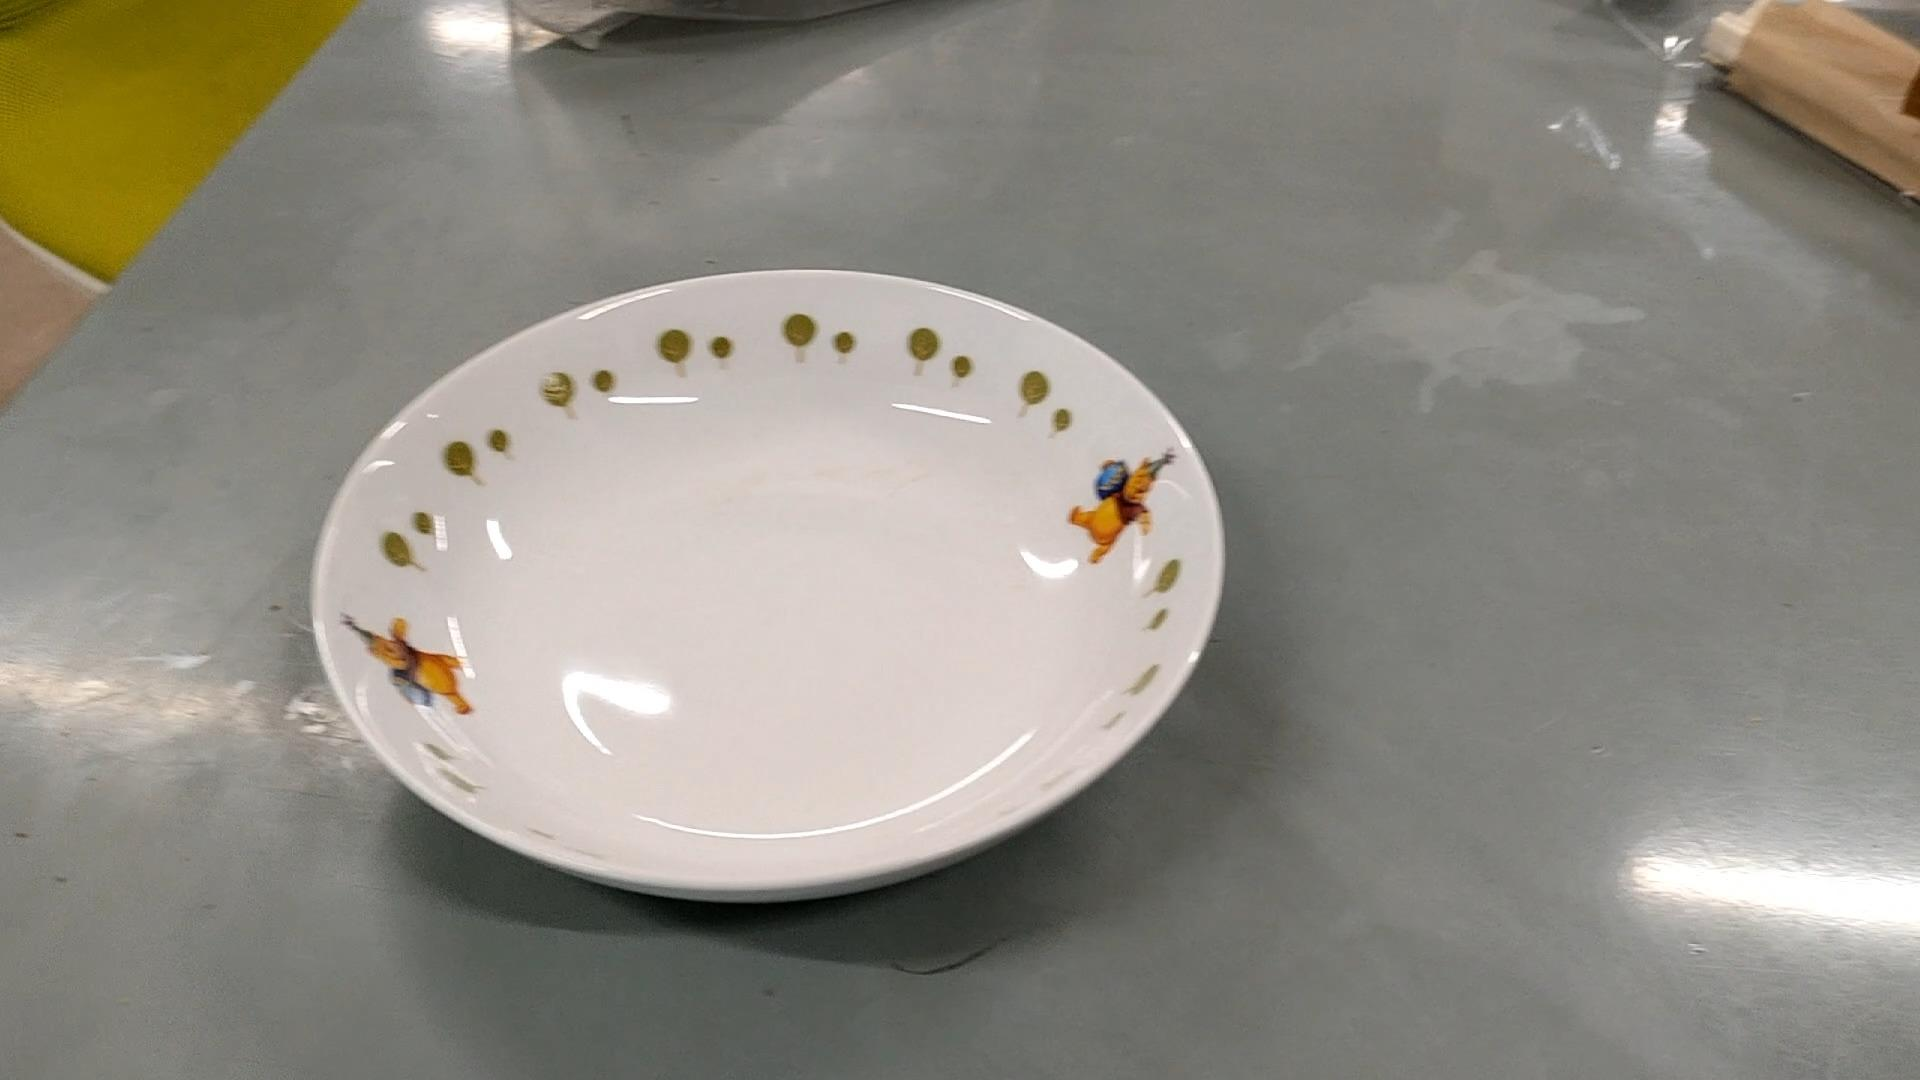plate: (313, 265, 1221, 895)
